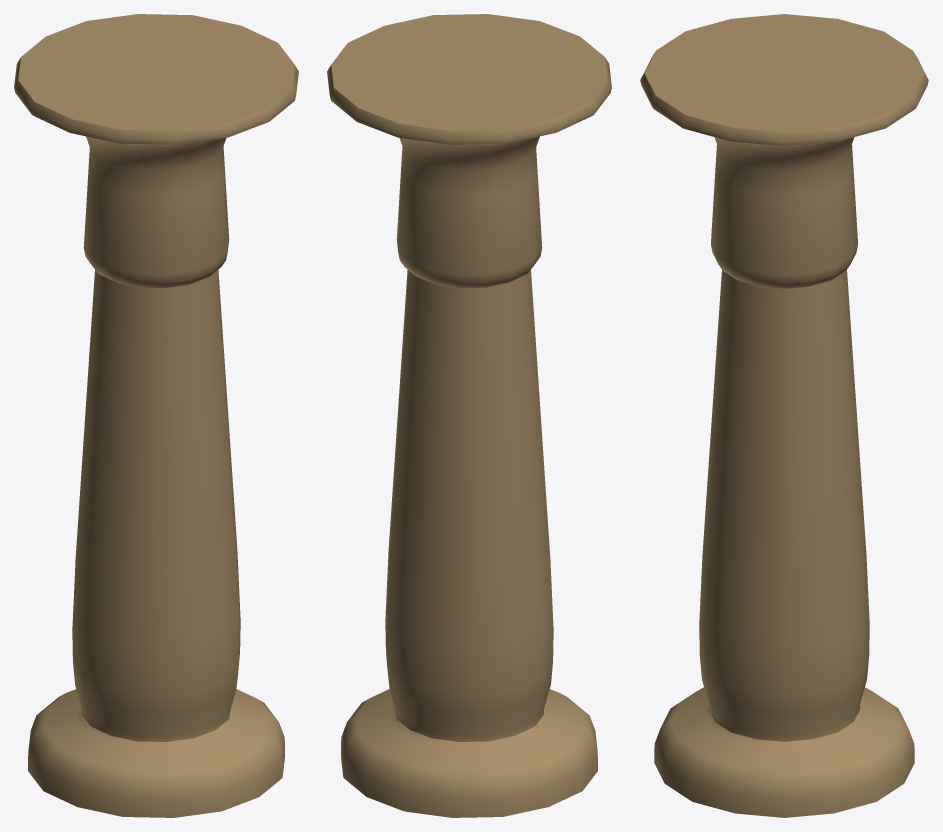
File: Column3.fbx
The picture shows the model from 3 angles, left to right: view 1: azimuth 30°, elevation 25°; view 2: azimuth 150°, elevation 25°; view 3: azimuth 270°, elevation 25°; orthographic projection.
Parts seen in each view (by area): view 1: Column; view 2: Column; view 3: Column.
Part boxes in pixels (<box>): Column: <box>14,14,298,817</box>; Column: <box>327,14,611,817</box>; Column: <box>640,14,928,817</box>.
Size of the model in its own units: 2.01 by 5.29 by 2.01.
